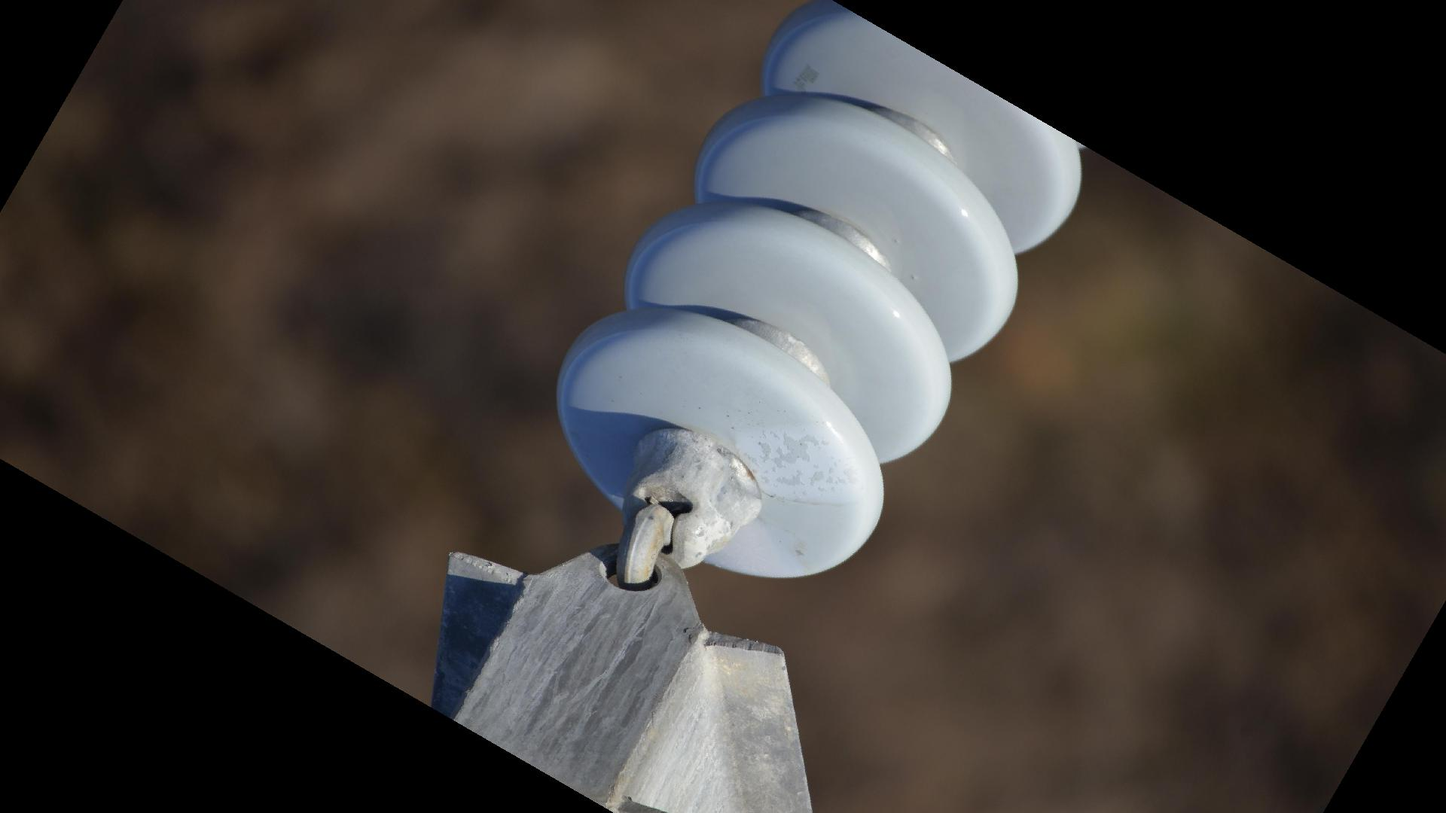insulator: (548, 1, 1088, 590)
insulator_flashover: (731, 421, 874, 511)
